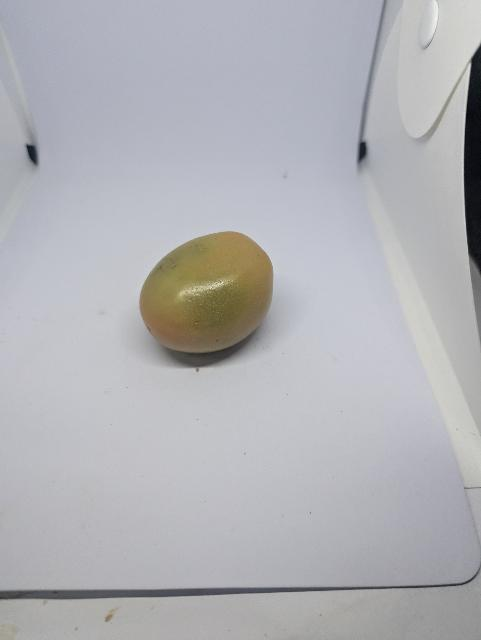breaker: (134, 220, 289, 356)
